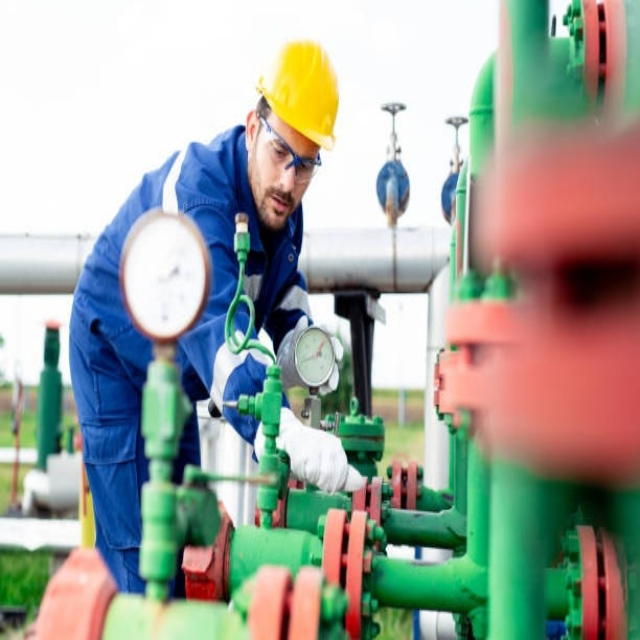Gafas: (258, 112, 322, 183)
Guantes: (251, 402, 350, 494), (282, 314, 345, 395)
Sin_mascara: (261, 187, 293, 226)
